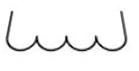inductor: (2, 6, 130, 55)
